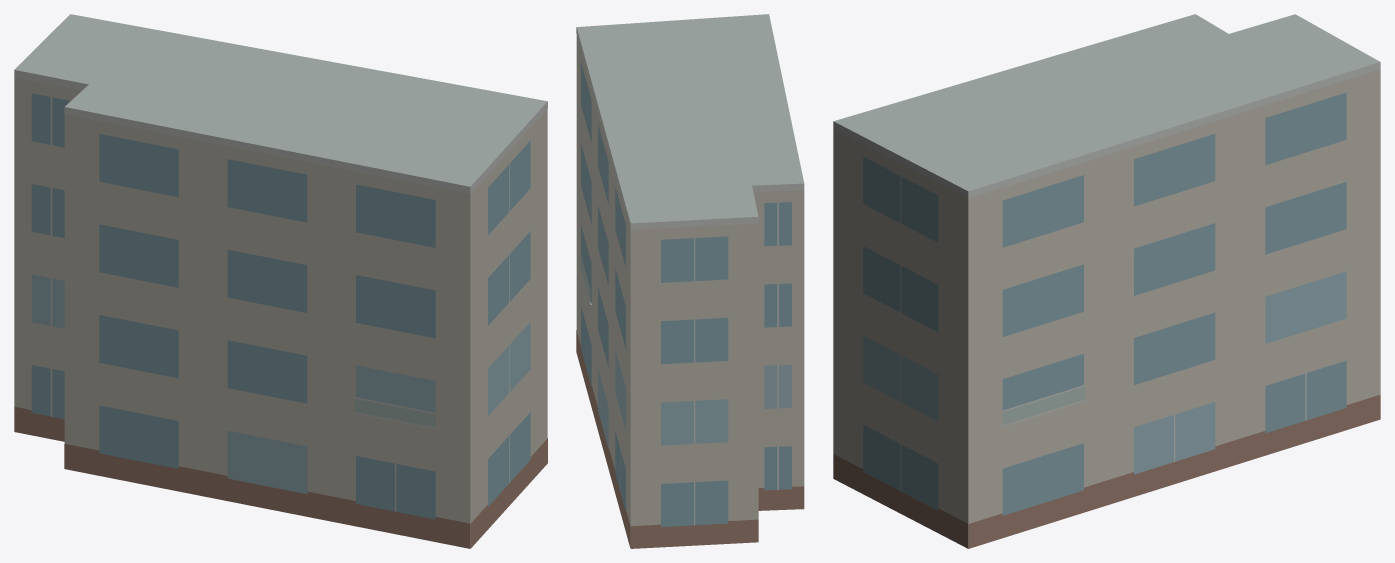
Rendered from survey-upis-32641534.glb.
The picture shows the model from 3 angles, left to right: view 1: azimuth 30°, elevation 25°; view 2: azimuth 150°, elevation 25°; view 3: azimuth 270°, elevation 25°; orthographic projection. The views are drawn at different scales.
Parts seen in each view (by area): view 1: survey-upis-32641534.tmp; view 2: survey-upis-32641534.tmp; view 3: survey-upis-32641534.tmp.
Boxes of the visible parts, box(x1,y1,x2,y2) form: survey-upis-32641534.tmp: box(14, 14, 547, 548); survey-upis-32641534.tmp: box(576, 14, 804, 548); survey-upis-32641534.tmp: box(833, 14, 1380, 548).
Size of the model in its own units: 12.99 by 12.2 by 16.93.
